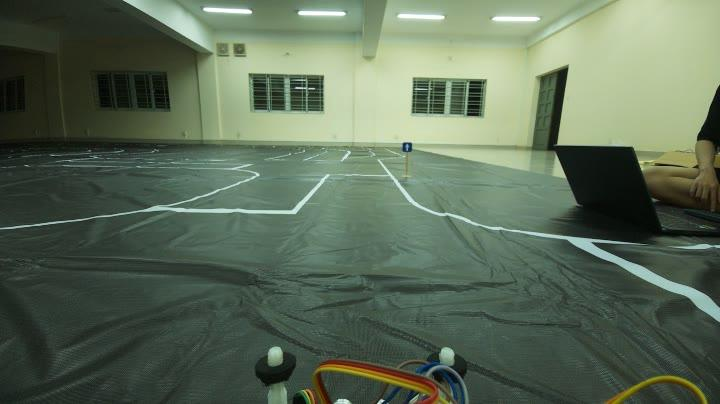onewayroad: (399, 136, 417, 156)
